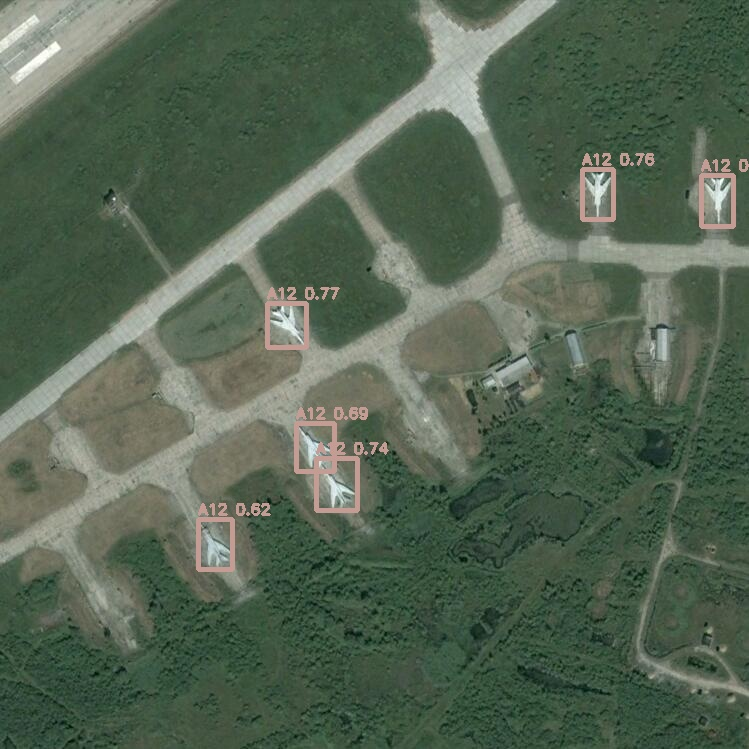A12: (316, 458, 357, 510), (296, 423, 334, 471), (267, 303, 306, 347), (198, 519, 232, 569), (701, 175, 733, 226), (582, 169, 613, 219)
